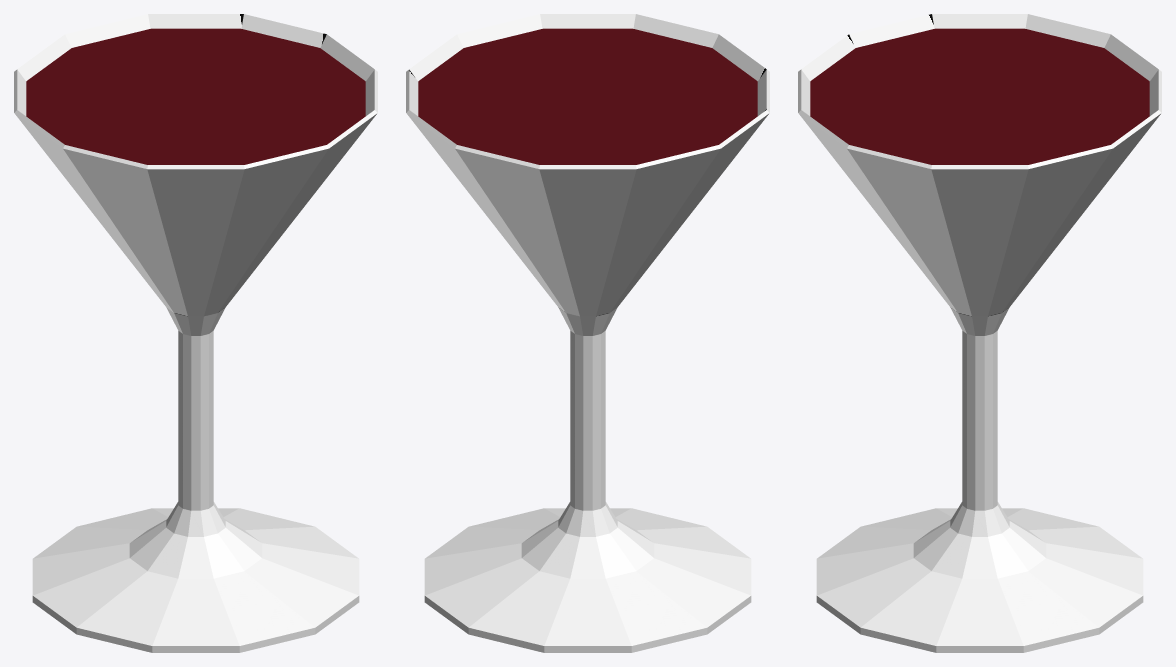
File: martini.obj
The picture shows the model from 3 angles, left to right: view 1: azimuth 30°, elevation 25°; view 2: azimuth 150°, elevation 25°; view 3: azimuth 270°, elevation 25°; orthographic projection.
Visible parts, largest first — view 1: liquid; view 2: liquid; view 3: liquid.
Boxes of the visible parts, x1,y1,x2,y2 form: liquid: [14, 14, 377, 652]; liquid: [406, 14, 769, 652]; liquid: [798, 14, 1161, 652].
Bounding box in the file's own units: 0.375 × 0.5625 × 0.375.
1 material, 1 textured.
